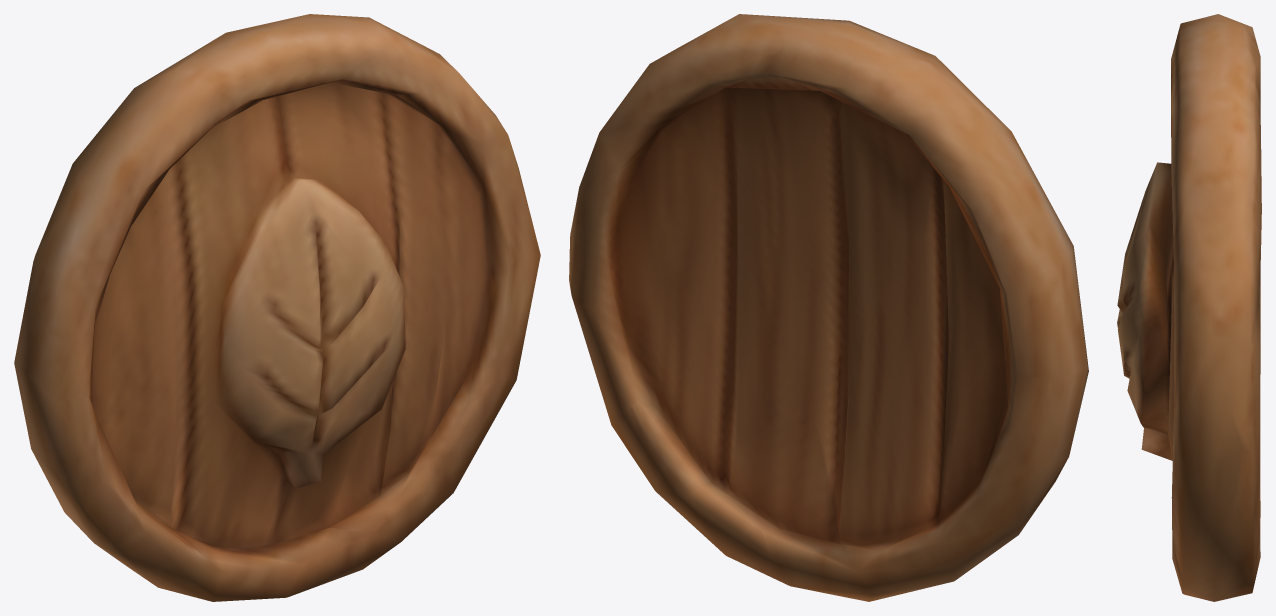
File: Shield.glb
3 views of the same model, side by side, from view 1: azimuth 30°, elevation 25°; view 2: azimuth 150°, elevation 25°; view 3: azimuth 270°, elevation 25° (orthographic). The views are drawn at different scales.
Parts seen in each view (by area): view 1: Shield; view 2: Shield; view 3: Shield.
Part boxes in pixels (x1,y1,x2,y2): Shield: (14, 14, 540, 601); Shield: (569, 14, 1088, 601); Shield: (1117, 14, 1261, 601).
Bounding box in the file's own units: 0.9384 × 1 × 0.2453.
1 material, 1 textured.
